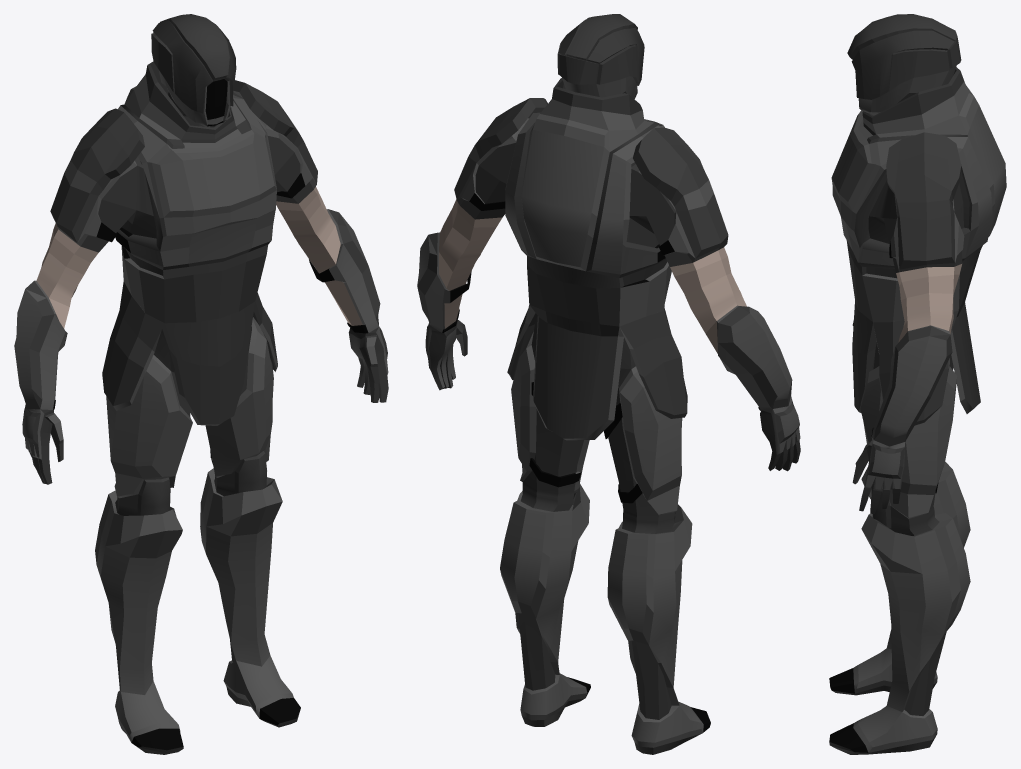
The model's file is Heritier.fbx.
The picture shows the model from 3 angles, left to right: view 1: azimuth 30°, elevation 25°; view 2: azimuth 150°, elevation 25°; view 3: azimuth 270°, elevation 25°; orthographic projection. The views are drawn at different scales.
Parts seen in each view (by area): view 1: polySurface5; view 2: polySurface5; view 3: polySurface5.
Part boxes in pixels (x1,y1,x2,y2): polySurface5: (14, 14, 388, 754); polySurface5: (417, 14, 800, 754); polySurface5: (829, 14, 1006, 754).
Size of the model in its own units: 2.31 by 4.28 by 0.9838.
